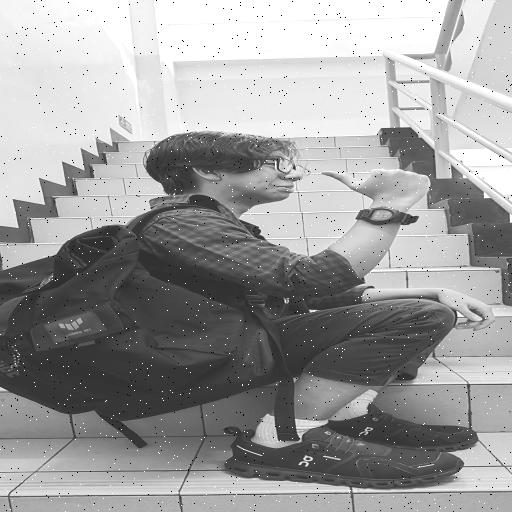back: (305, 156, 463, 217)
